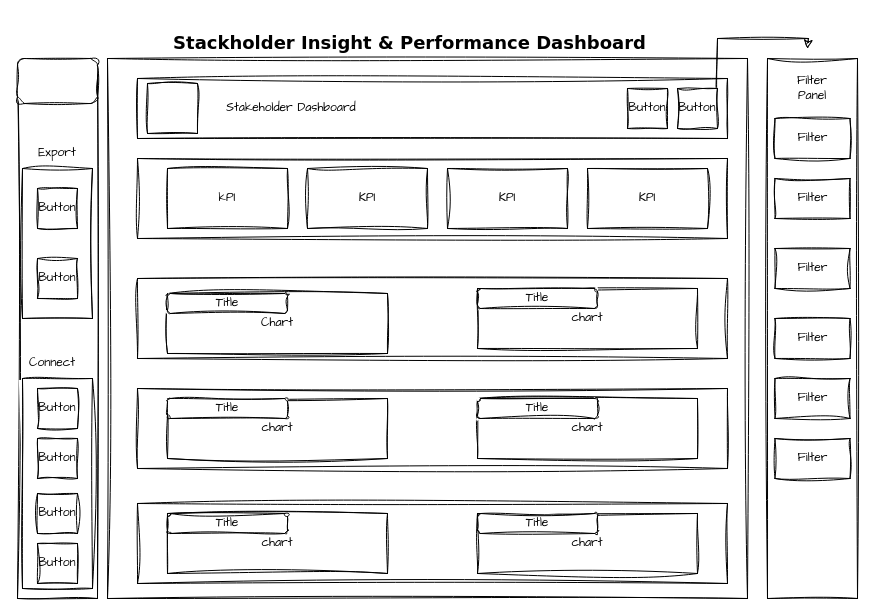
The diagram is 875 pixels wide and 616 high, and some of its shapes have lost their labels. The box of each missing label's shape, as (x1, y1, x2, y2) in pixels:
Icon: (146, 82, 198, 134)
Icon and Button section: (16, 58, 98, 104)
